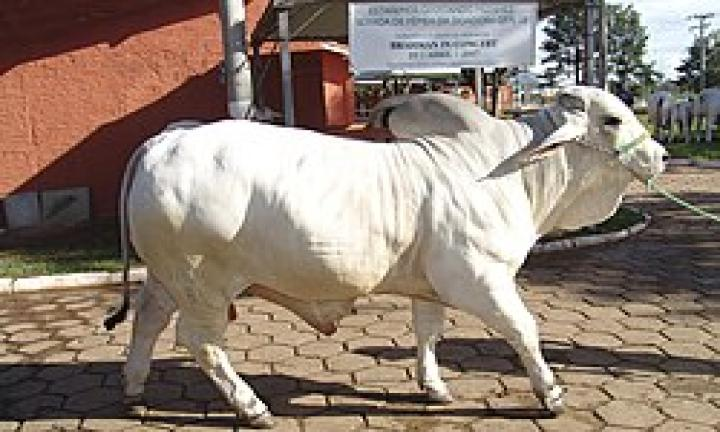Brahman: (121, 86, 665, 424)
